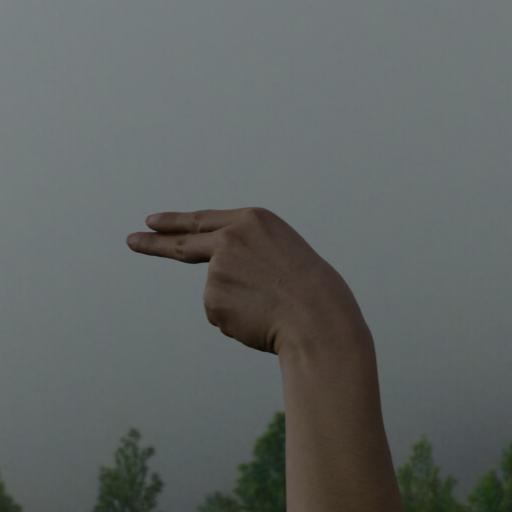H: (116, 198, 408, 424)
